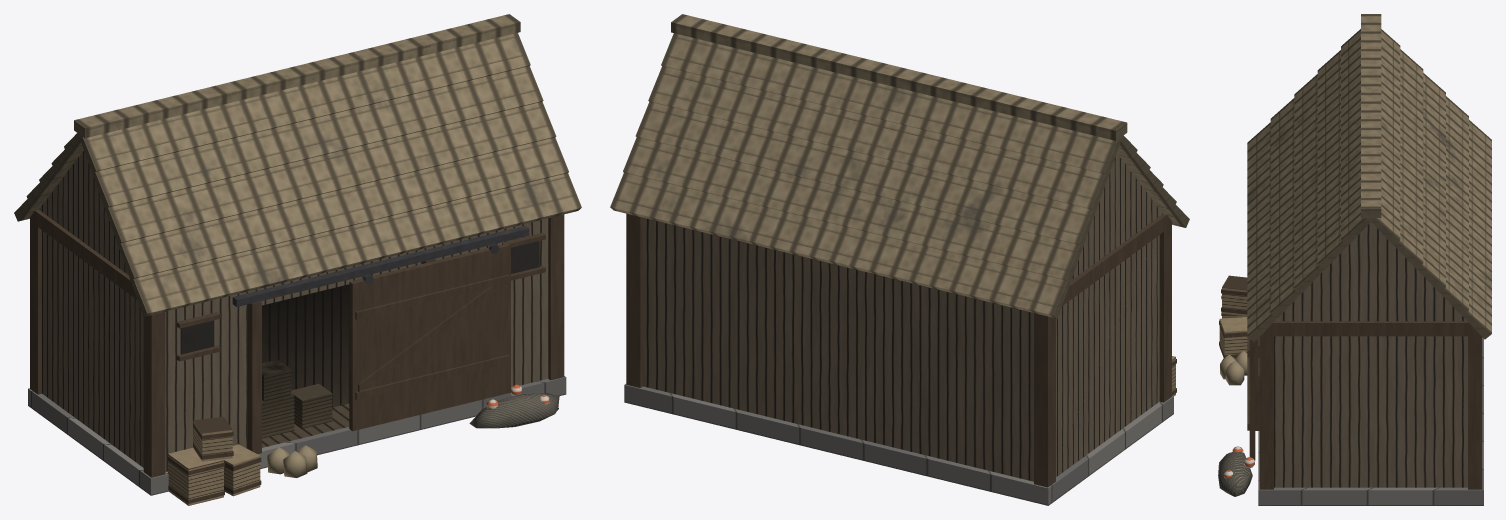
Rendered from 창고_모래기와.fbx.
3 views of the same model, side by side, from view 1: azimuth 30°, elevation 25°; view 2: azimuth 150°, elevation 25°; view 3: azimuth 270°, elevation 25° (orthographic). The views are drawn at different scales.
Visible parts, largest first — view 1: 창고_모래기와; view 2: 창고_모래기와; view 3: 창고_모래기와.
Boxes of the visible parts, <box> form: 창고_모래기와: <box>14,14,581,505</box>; 창고_모래기와: <box>610,14,1189,505</box>; 창고_모래기와: <box>1218,14,1491,505</box>.
Bounding box in the file's own units: 1594 × 1150 × 946.
13 materials, 13 textured.
